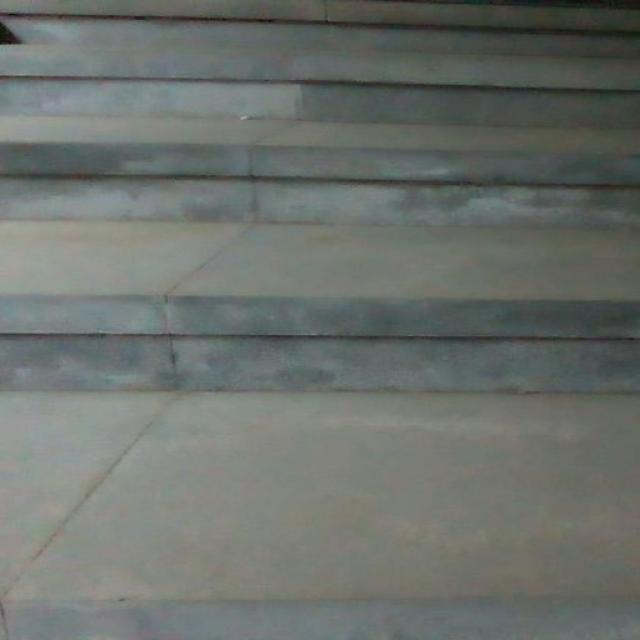Stairs: (0, 0, 639, 394)
